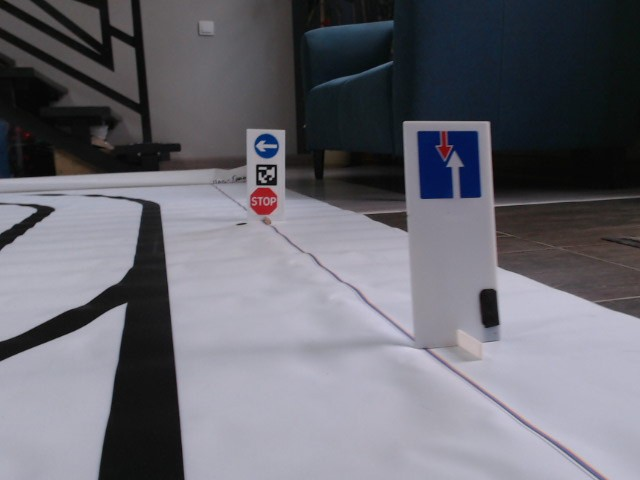Stop: (249, 187, 277, 216)
priority_movement: (415, 129, 483, 200)
